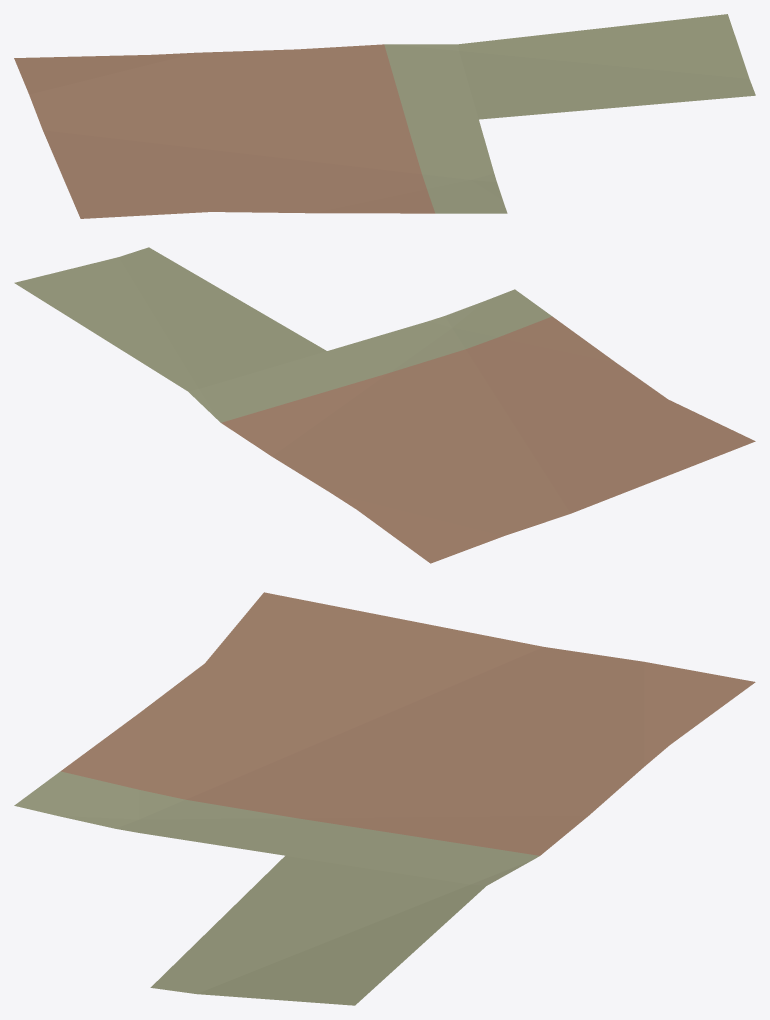
Rendered from farm_-4_10_soil.glb.
3 renders of one model, top to bottom at view 1: azimuth 30°, elevation 25°; view 2: azimuth 150°, elevation 25°; view 3: azimuth 270°, elevation 25°, orthographic. The views are drawn at different scales.
Parts seen in each view (by area): view 1: geometry_0; view 2: geometry_0; view 3: geometry_0.
Part boxes in pixels (x1,y1,x2,y2): geometry_0: (14,14,755,218); geometry_0: (14,247,755,563); geometry_0: (14,592,755,1005).
Size of the model in its own units: 161 by 4.91 by 118.
